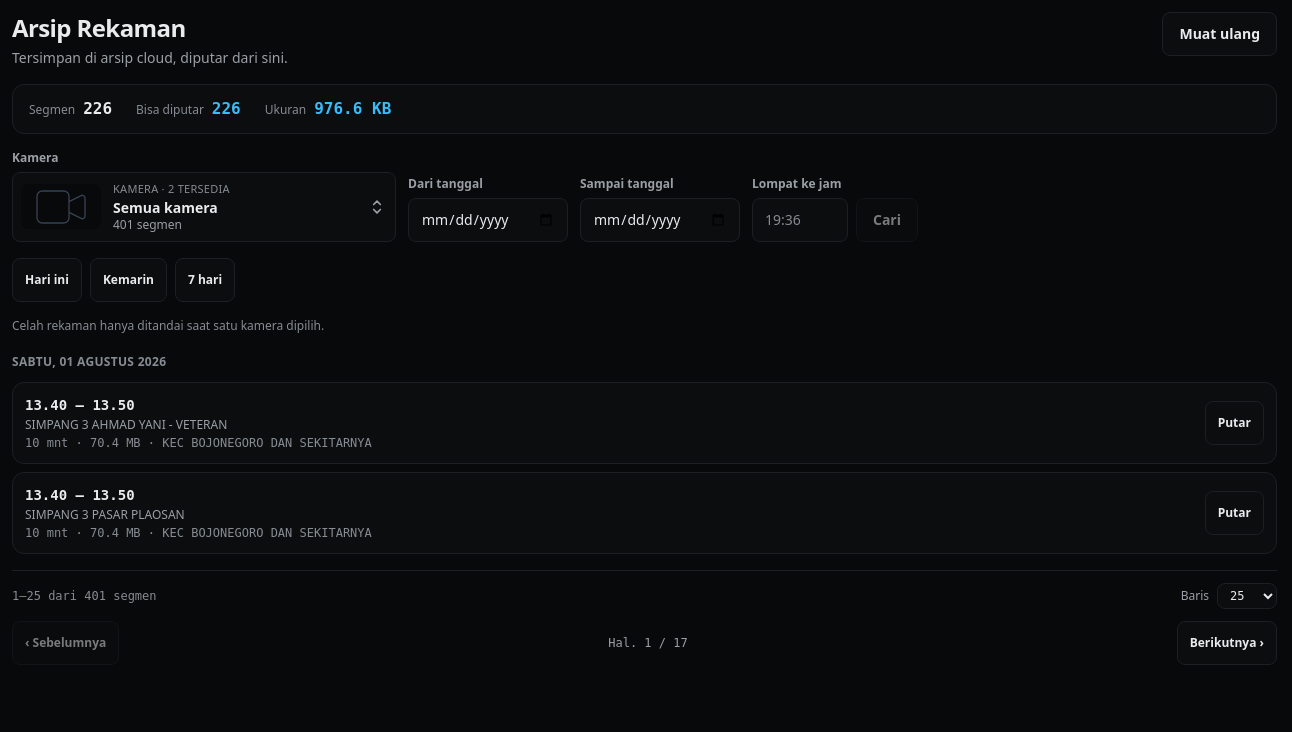
Test case: TelegramArchiveLibrary paging stability › lets only the newest request write, so a slow earlier page cannot reappear
Expected: the list item that starts with "SIMPANG 3 AHMAD YANI - VETERAN" is shown, [12,382,1277,464]
Click the button "Berikutnya ›": (1227, 643) [1177,621,1277,665]
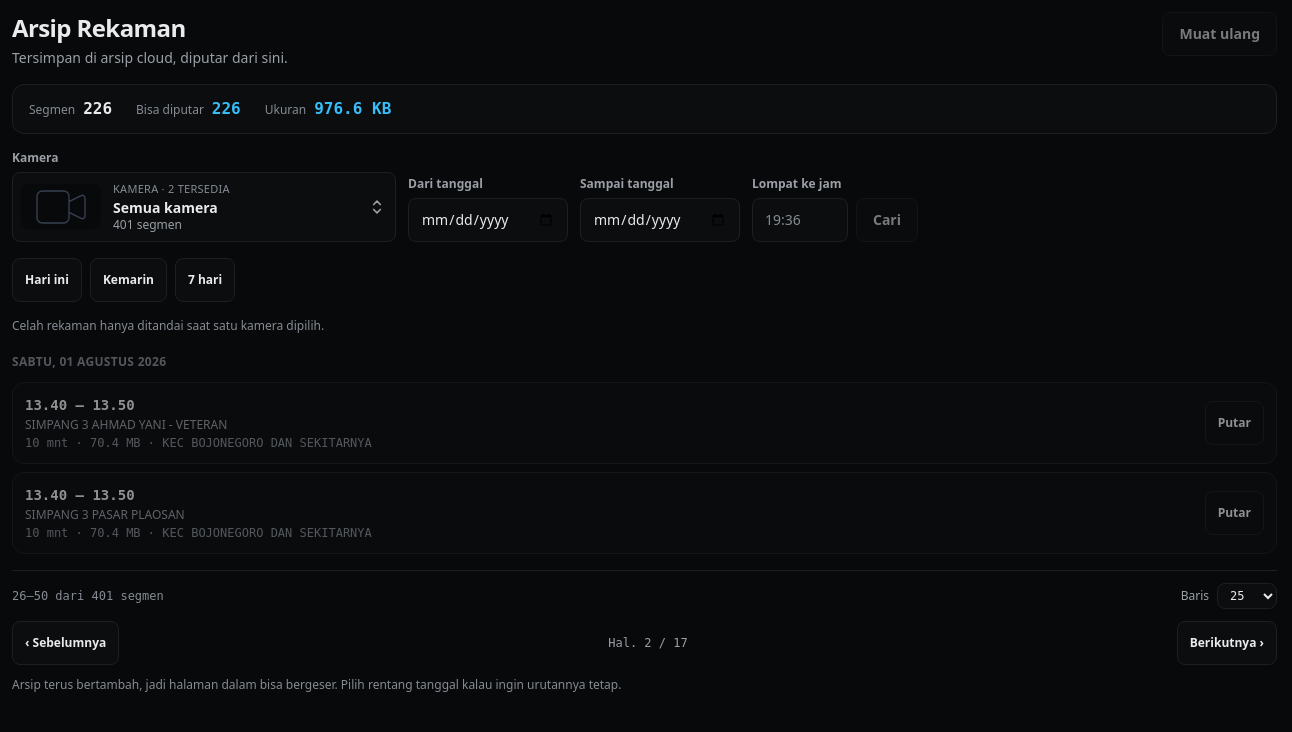
Click the button "Berikutnya ›": (1227, 643) [1177,621,1277,665]
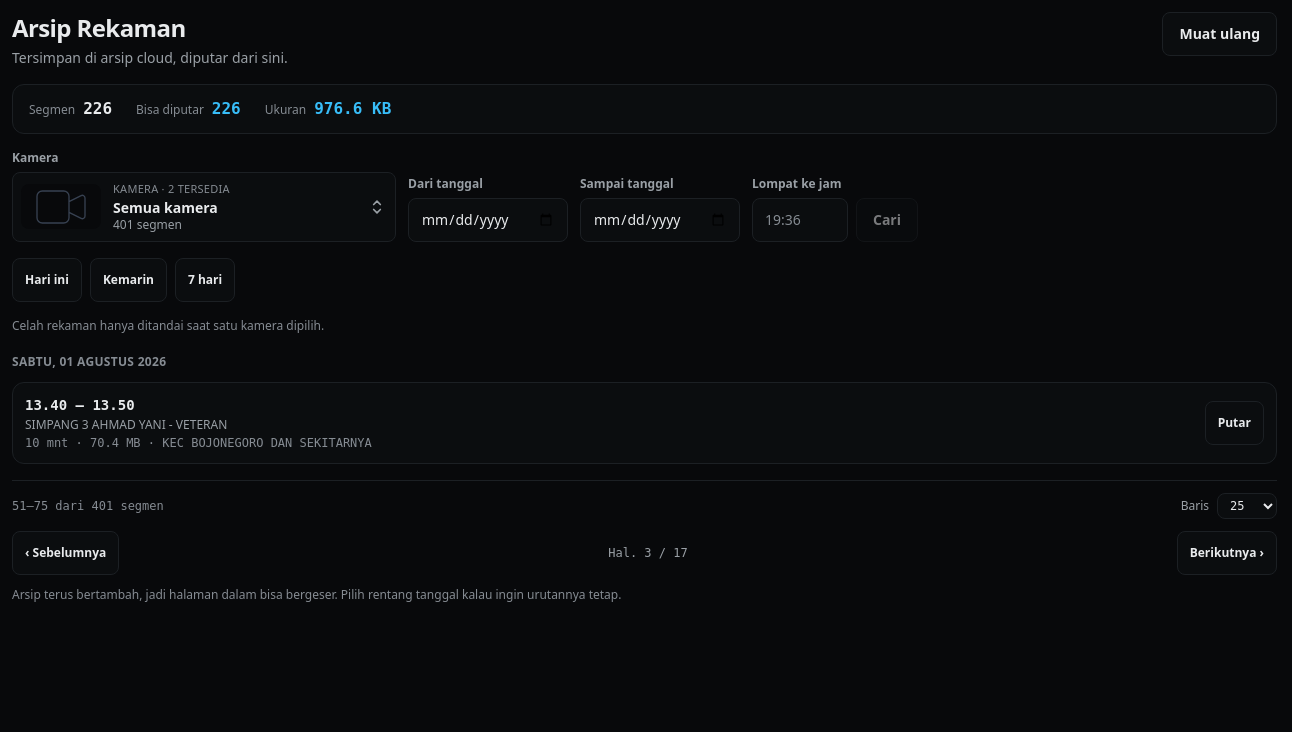
Expected: the number of list items is 1, [12,382,1277,464]
